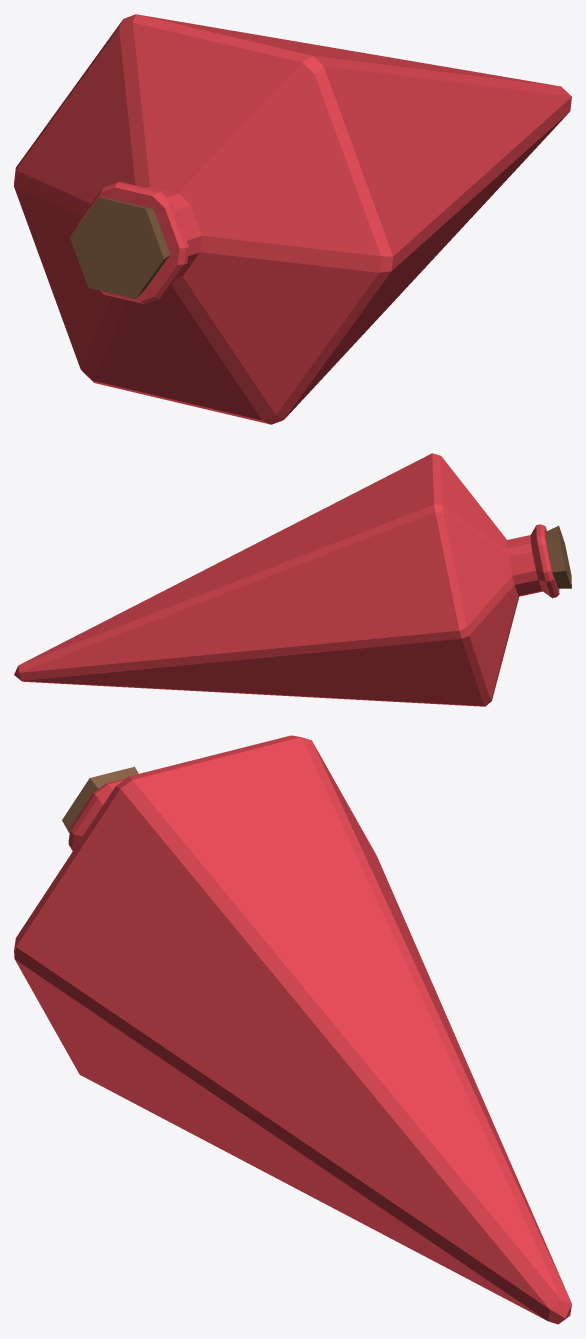
Rendered from Potion_01_Red.fbx.
3 views of the same model, one above another, from view 1: azimuth 30°, elevation 25°; view 2: azimuth 150°, elevation 25°; view 3: azimuth 270°, elevation 25° (orthographic). The views are drawn at different scales.
Parts seen in each view (by area): view 1: Cone.003, Cylinder.011, Cylinder.010; view 2: Cone.003, Cylinder.010, Cylinder.011; view 3: Cone.003, Cylinder.010, Cylinder.011.
Boxes of the visible parts, x1=… form: Cone.003: x1=14, y1=14, x2=571, y2=424; Cylinder.011: x1=70, y1=197, x2=170, y2=298; Cylinder.010: x1=77, y1=182, x2=201, y2=304; Cone.003: x1=14, y1=453, x2=518, y2=706; Cylinder.010: x1=507, y1=524, x2=559, y2=598; Cylinder.011: x1=546, y1=525, x2=571, y2=588; Cone.003: x1=14, y1=735, x2=571, y2=1324; Cylinder.010: x1=68, y1=778, x2=125, y2=851; Cylinder.011: x1=62, y1=766, x2=138, y2=833.
Size of the model in its own units: 31.74 by 14.47 by 22.3.
